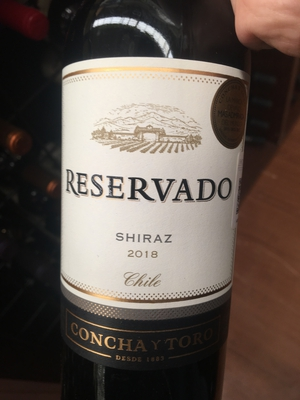reservado shiraz: (49, 19, 254, 400)
